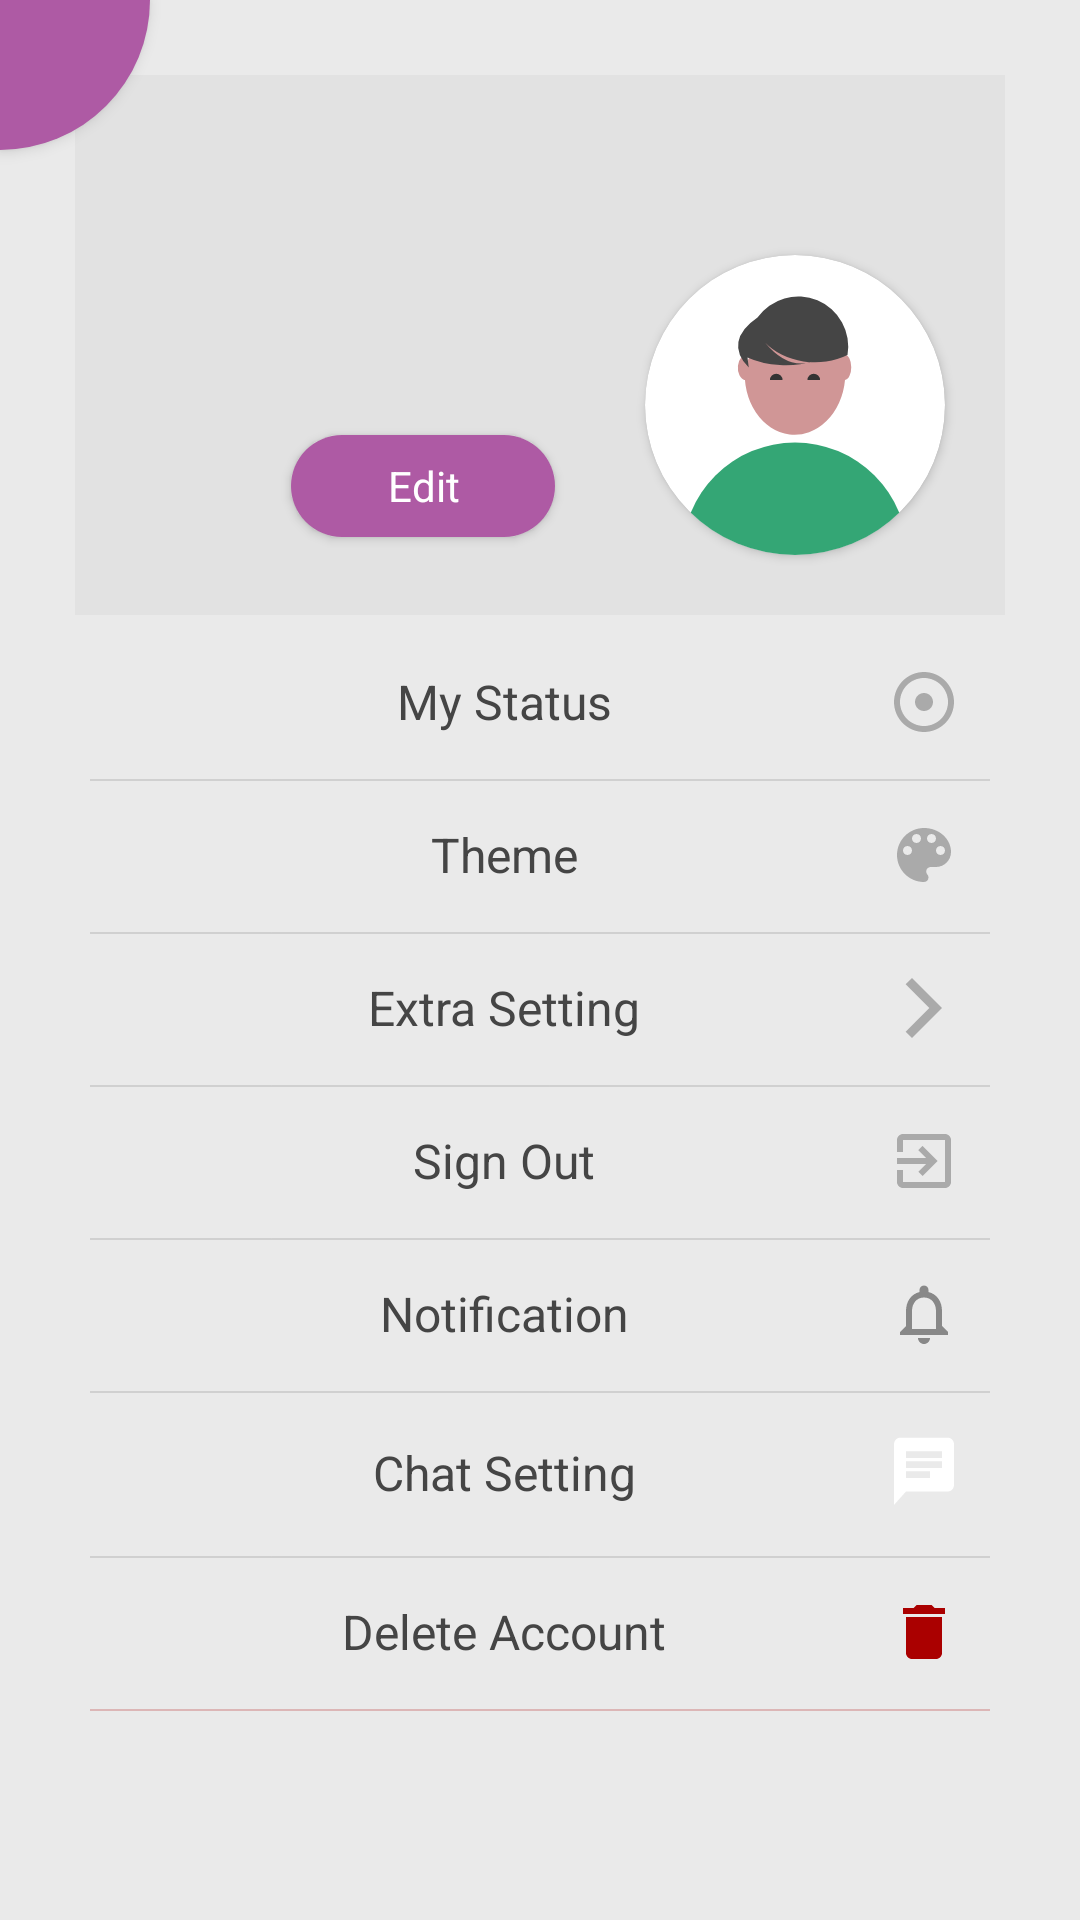

Named icons in this screenshot (1080x1920) and their bounding boxes, (x1, y1, x2, y2):
user: (645, 255, 945, 555)
